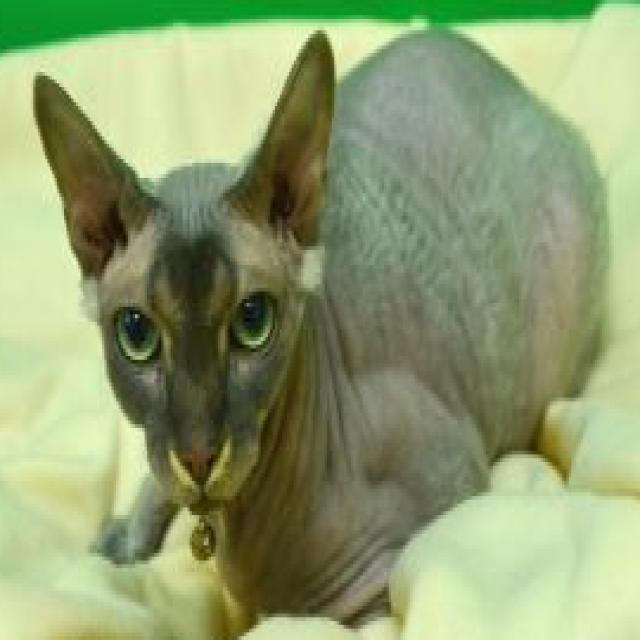Sphynx: (26, 23, 611, 635)
